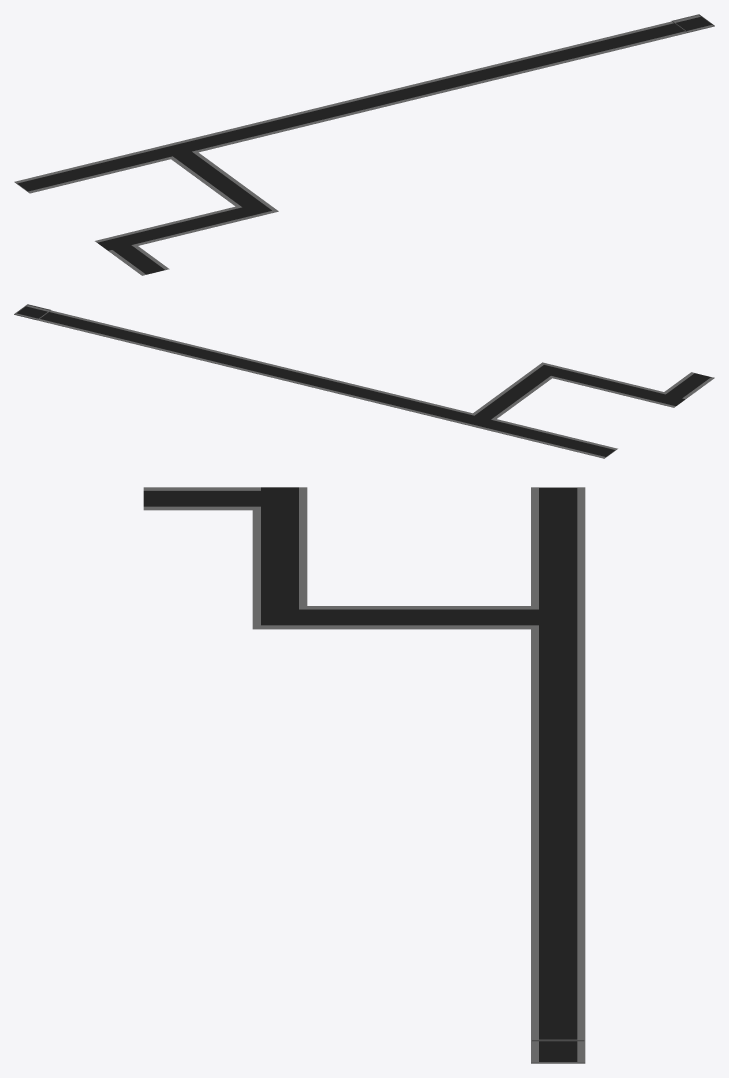
Rendered from Tori_Tie_Farmilta.fbx.
3 renders of one model, top to bottom at view 1: azimuth 30°, elevation 25°; view 2: azimuth 150°, elevation 25°; view 3: azimuth 270°, elevation 25°, orthographic. The views are drawn at different scales.
Visible parts, largest first — view 1: Plane; view 2: Plane; view 3: Plane.
Boxes of the visible parts, x1,y1,x2,y2 form: Plane: (14,14,714,275); Plane: (14,304,714,458); Plane: (143,487,585,1063).
Size of the model in its own units: 50000 by 49.99 by 16200.
